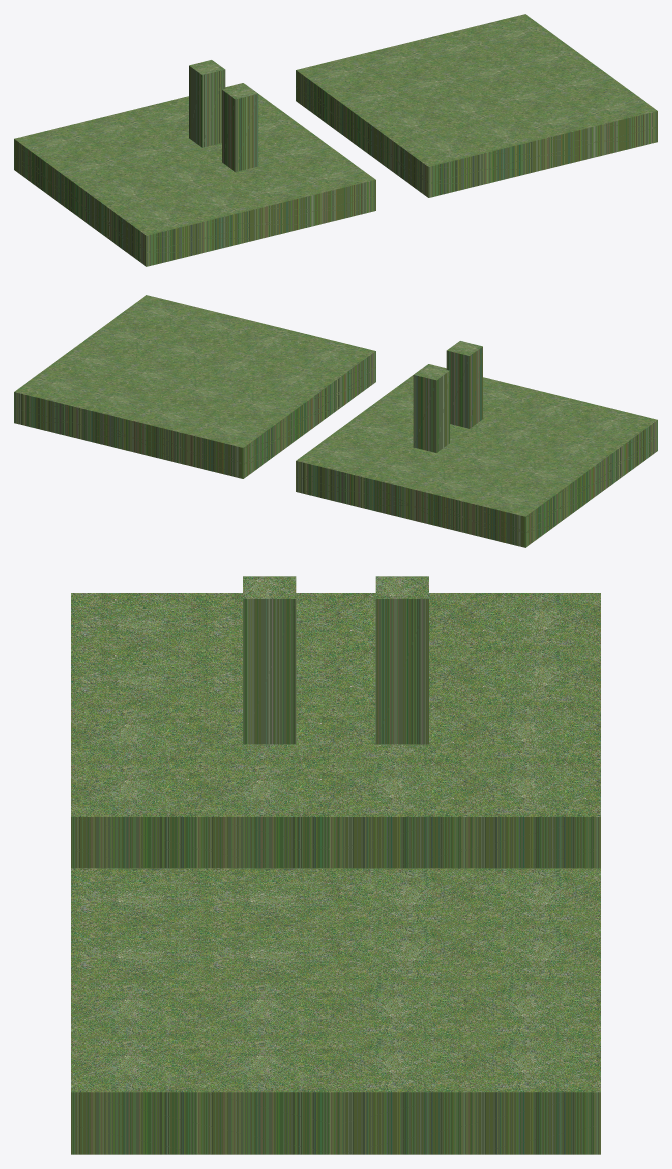
File: map.glb
3 views of the same model, one above another, from view 1: azimuth 30°, elevation 25°; view 2: azimuth 150°, elevation 25°; view 3: azimuth 270°, elevation 25° (orthographic). The views are drawn at different scales.
Parts seen in each view (by area): view 1: Plane.001, Plane; view 2: Plane.001, Plane; view 3: Plane, Plane.001.
Part boxes in pixels (x1,y1,x2,y2): Plane.001: (14,60,375,266); Plane: (296,14,657,197); Plane.001: (296,341,657,547); Plane: (14,295,375,478); Plane: (71,868,600,1154); Plane.001: (71,576,600,868).
Bounding box in the file's own units: 8.92 × 1.73 × 4.
1 material, 1 textured.
